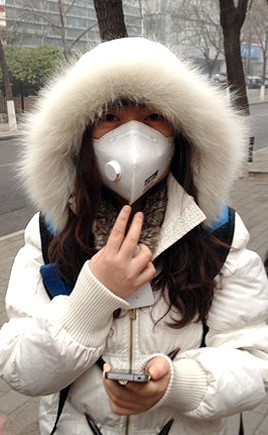with_mask: (88, 91, 180, 202)
